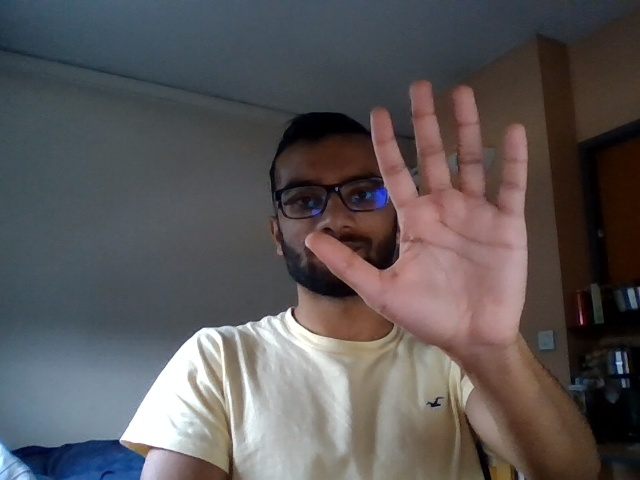Hello: (295, 72, 560, 355)
